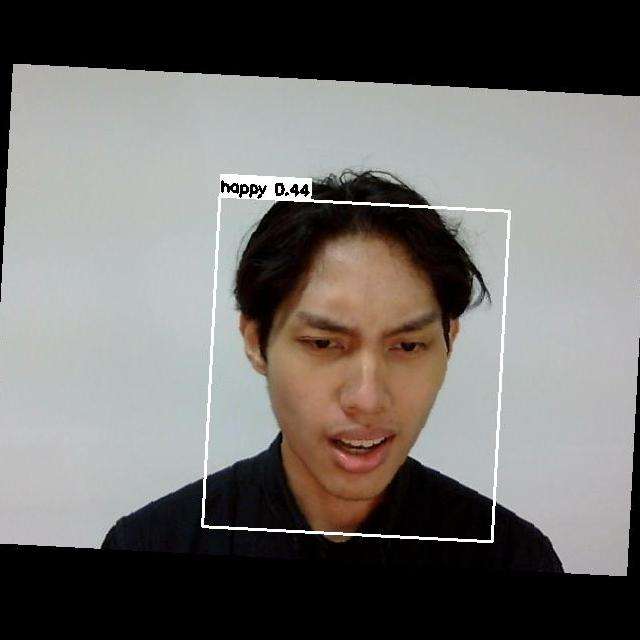Angry: (261, 287, 470, 483)
